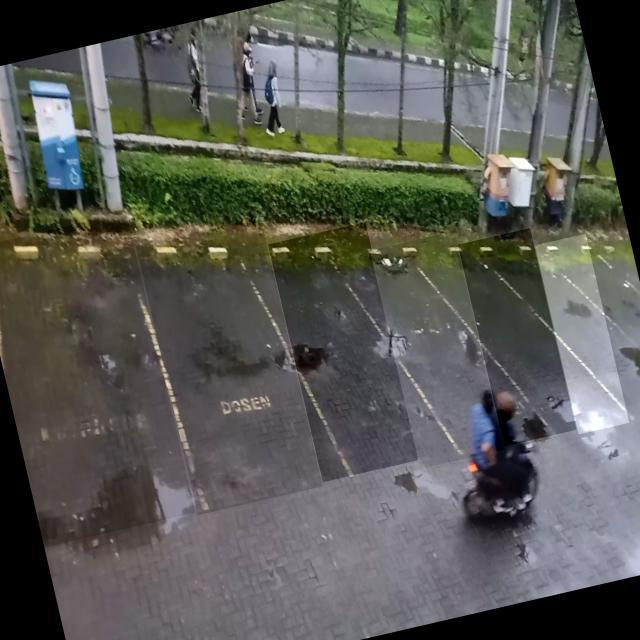empty: (0, 212, 195, 547), (136, 217, 323, 514), (268, 222, 420, 482), (369, 231, 504, 468), (458, 227, 576, 446), (534, 233, 629, 434)
